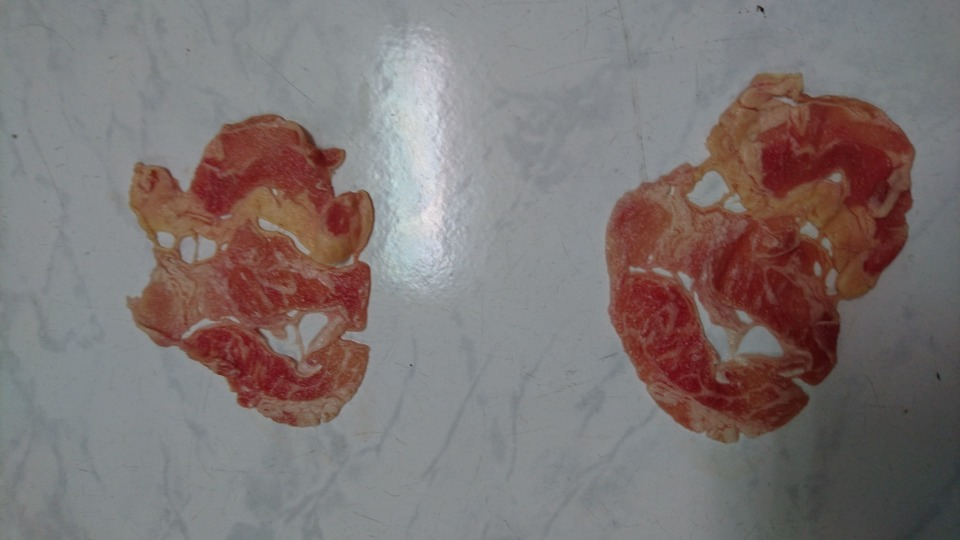restructured meat: (590, 47, 912, 432), (91, 104, 397, 459)
